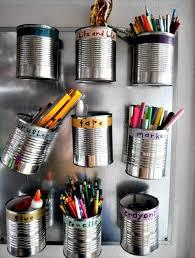Tin: (6, 9, 185, 258)
